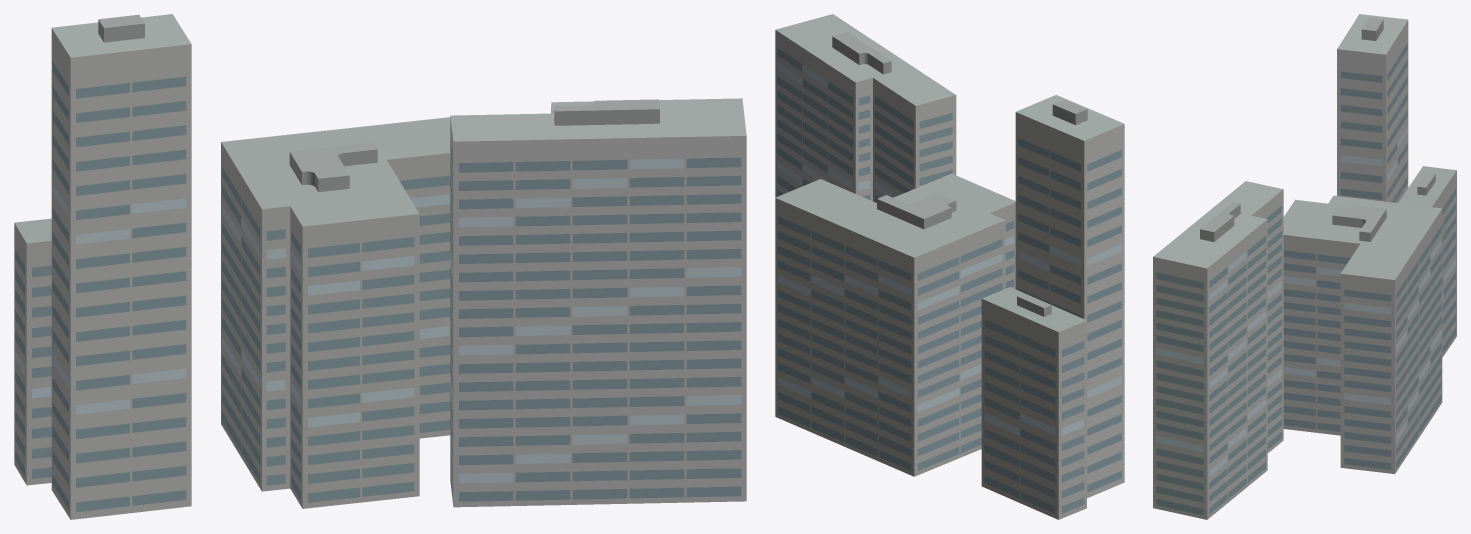
File: apt-a13470102.glb
3 renders of one model, left to right at view 1: azimuth 30°, elevation 25°; view 2: azimuth 150°, elevation 25°; view 3: azimuth 270°, elevation 25°, orthographic. The views are drawn at different scales.
Visible parts, largest first — view 1: apt-a13470102; view 2: apt-a13470102; view 3: apt-a13470102.
Boxes of the visible parts, bbox=[...] form: apt-a13470102: bbox=[14, 14, 746, 519]; apt-a13470102: bbox=[775, 14, 1124, 519]; apt-a13470102: bbox=[1153, 14, 1456, 519].
Size of the model in its own units: 97.34 by 79 by 66.36.
